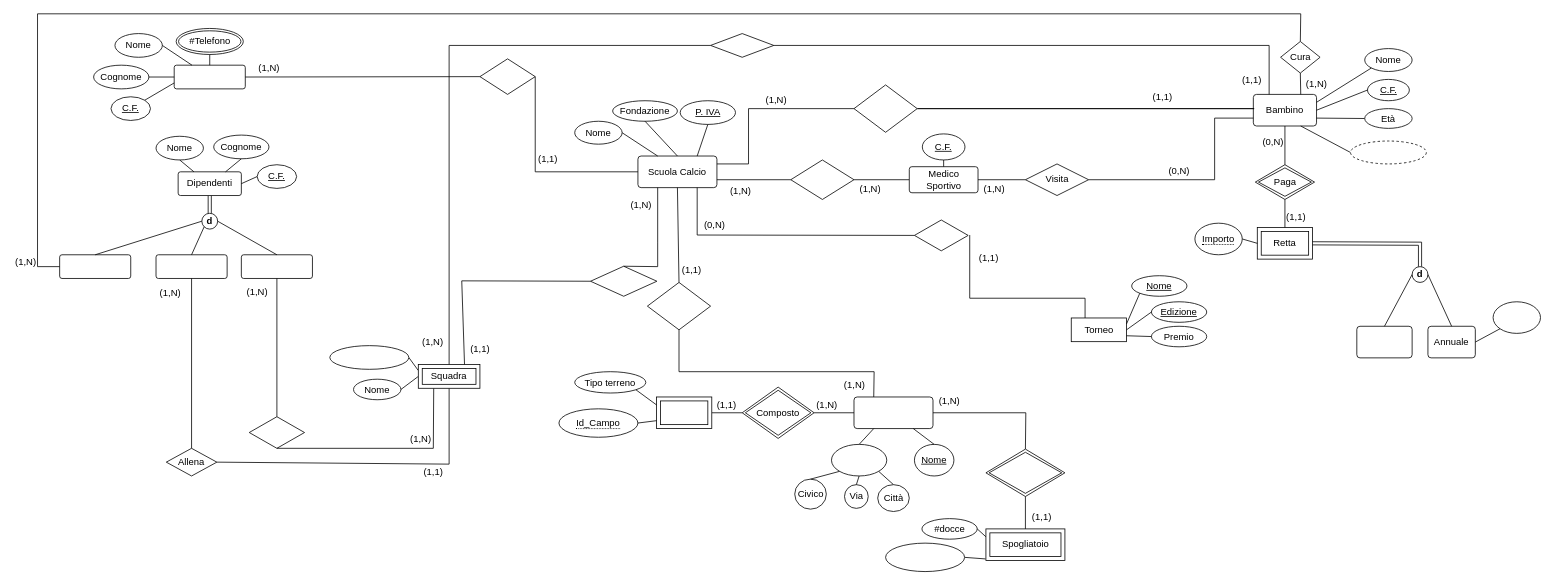
Image size: 1554x585. Some labels were removed from this diagram. Each missing label, with the centre of its shape:
#Trofei vinti: (1388,152)
Allenatore: (191,266)
Campo: (684,412)
Centro Sportivo: (893,412)
Collabora: (822,179)
Dispone di: (1025,472)
Età bambini: (369,357)
Fisioterapista: (95,266)
Formata: (623,280)
Gioca: (742,45)
Id Spogliatoio: (925,557)
Indirizzo: (859,460)
Iscritto: (885,108)
Mensile: (1384,341)
Possiede: (507,76)
Prepara: (276,432)
Preparatore Atletico: (276,266)
Presidente: (209,76)
Sconto: (1516,317)
Utilizza: (679,306)
Vince: (941,235)
